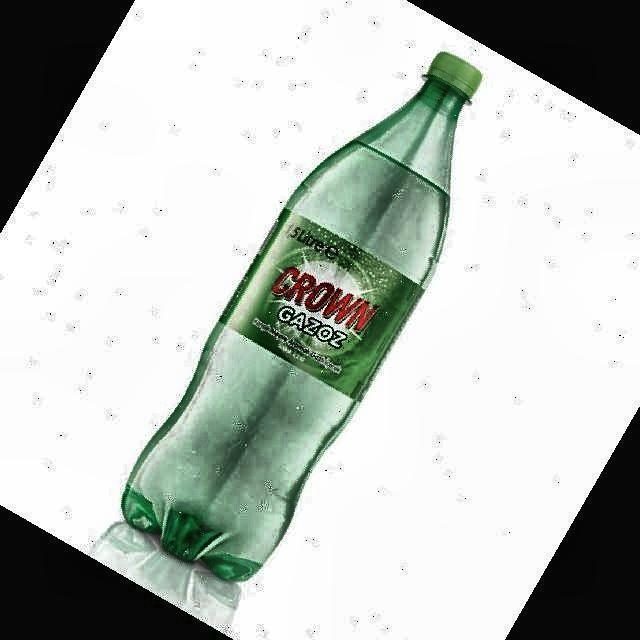plastic: (121, 54, 481, 581)
